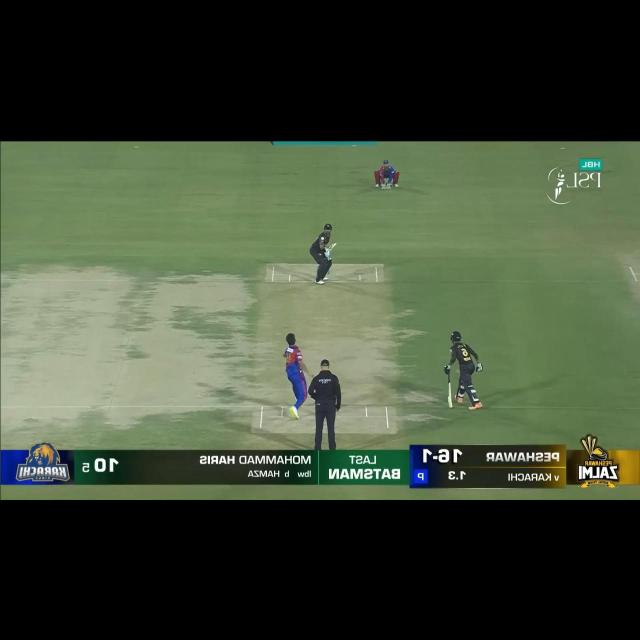bat: (446, 382, 454, 410), (327, 243, 338, 252)
toe: (447, 402, 453, 410), (332, 242, 337, 246)
